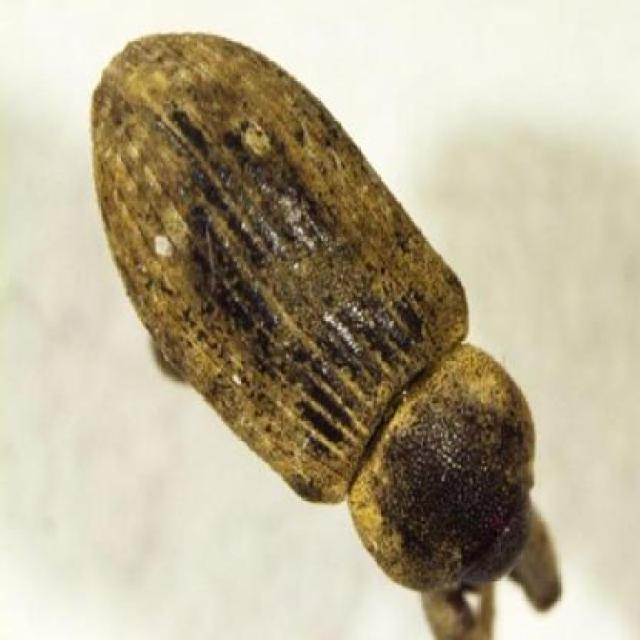rice-bug: (93, 35, 560, 640)
